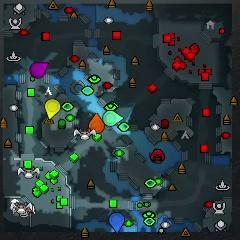p1: (109, 212, 124, 233)
p2: (103, 111, 123, 127)
p3: (30, 62, 49, 78)
p4: (45, 99, 60, 120)
p5: (89, 113, 104, 134)
